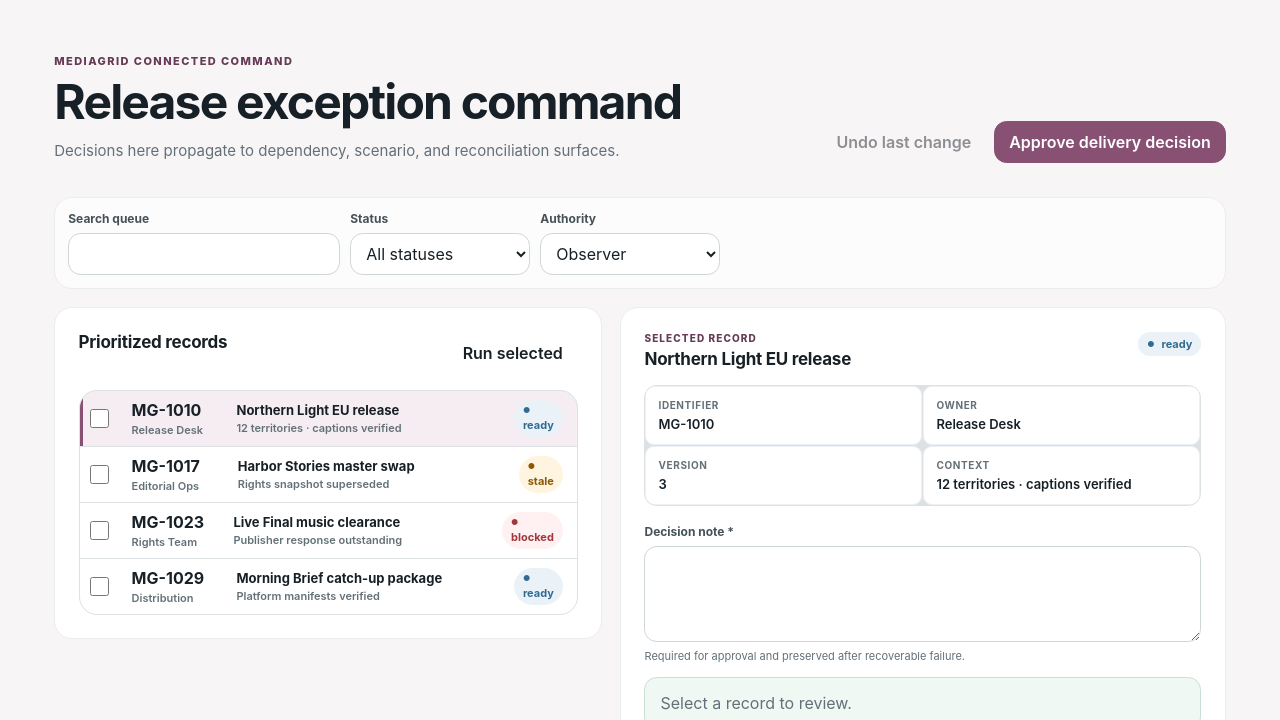
Test: Release exception command › filters the queue and offers recovery from an empty result
Type "not-present" into the field labelled "Search queue" at (204, 254), box [68, 234, 340, 276]
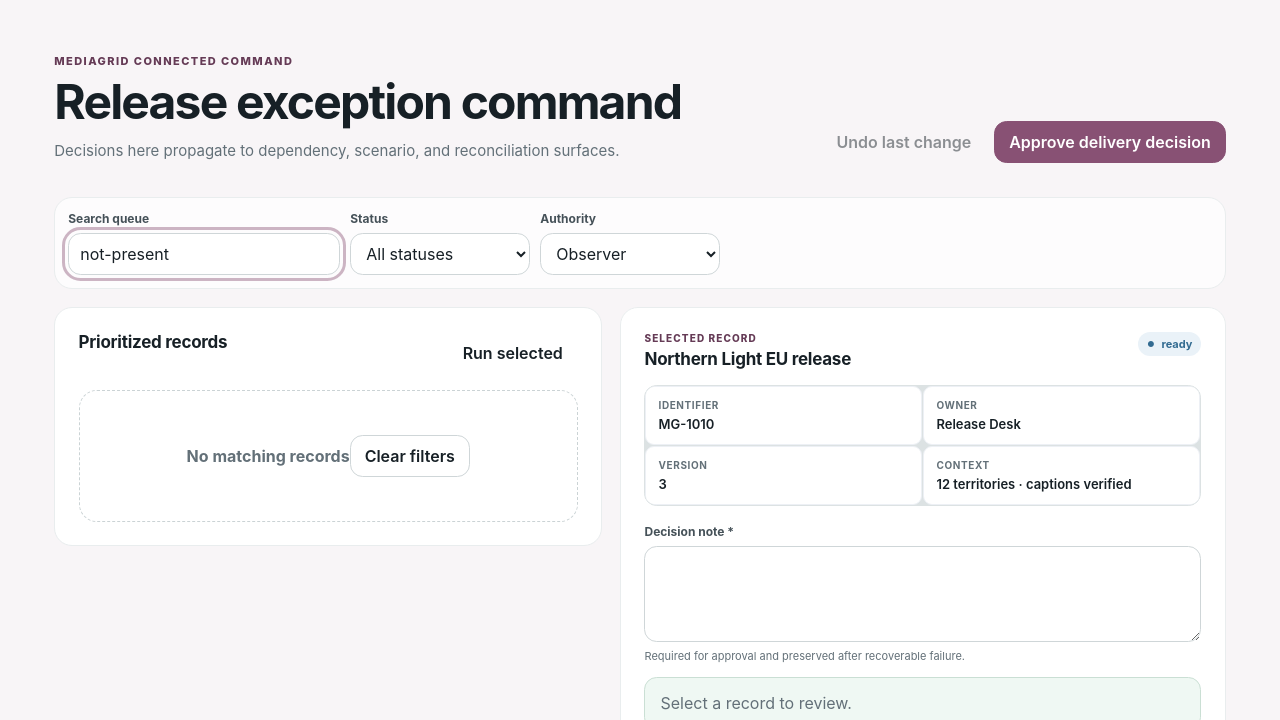
Check: the text "No matching records" is shown, box [187, 446, 350, 466]
Click the button "Clear filters" at (410, 456), box [350, 435, 470, 477]
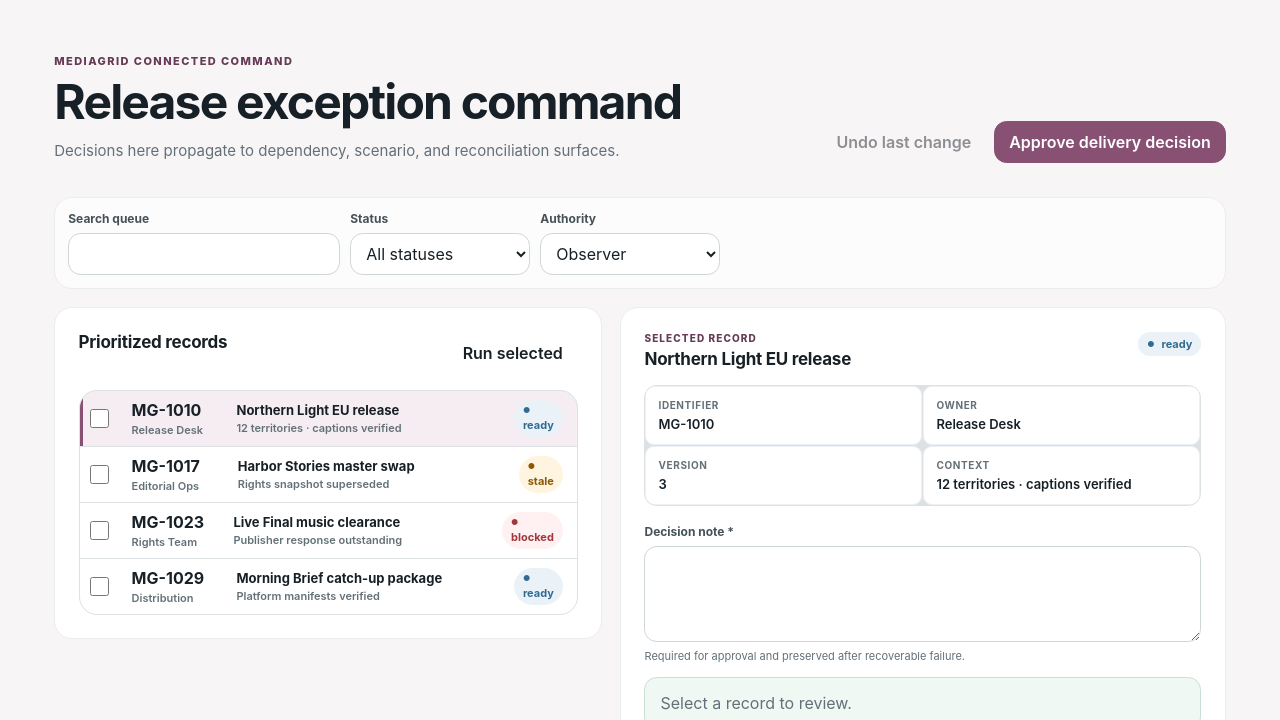
Check: the text "Northern Light EU release" is shown 2 times, box [236, 402, 399, 418]; [644, 349, 851, 369]
